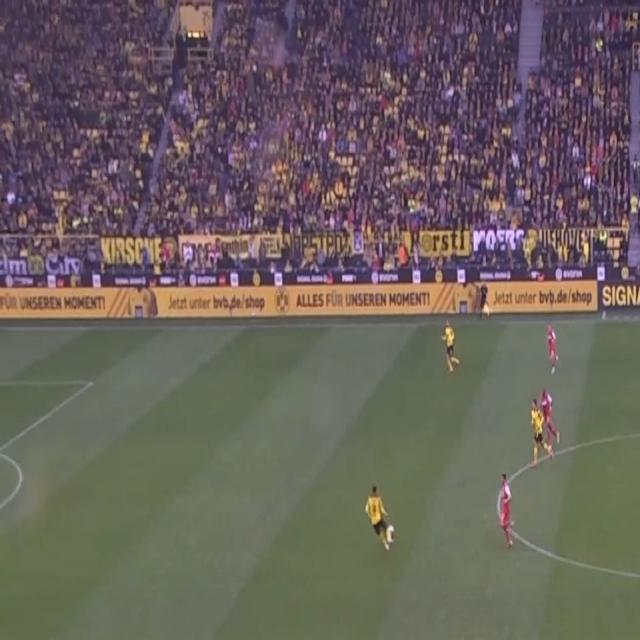ball: (387, 523, 395, 537)
